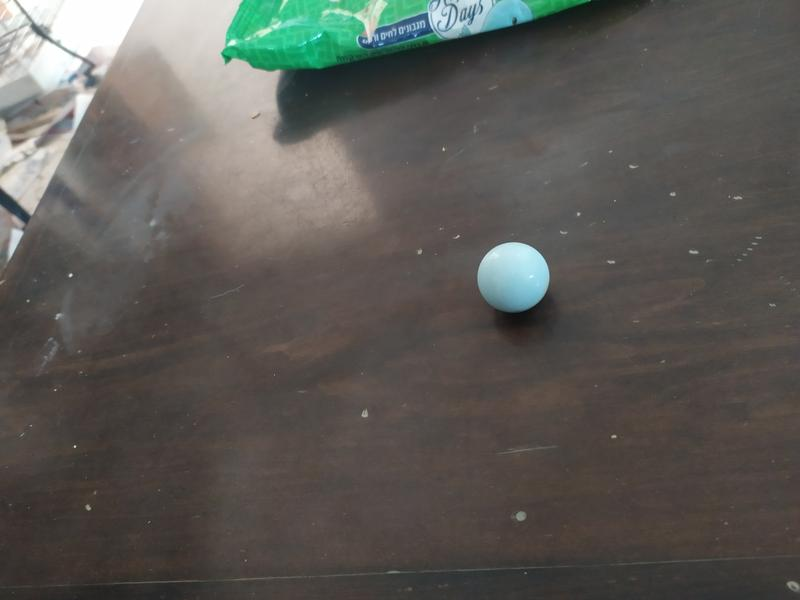Warning: (473, 239, 554, 317)
